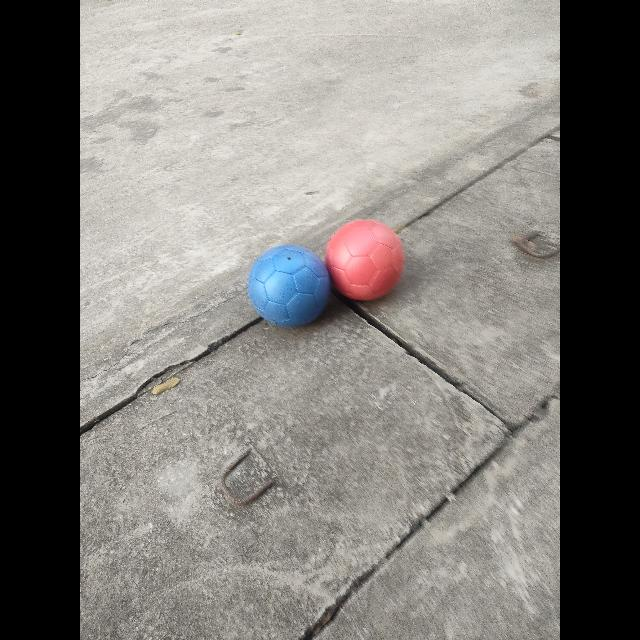B: (248, 245, 330, 328)
R: (324, 219, 404, 301)
